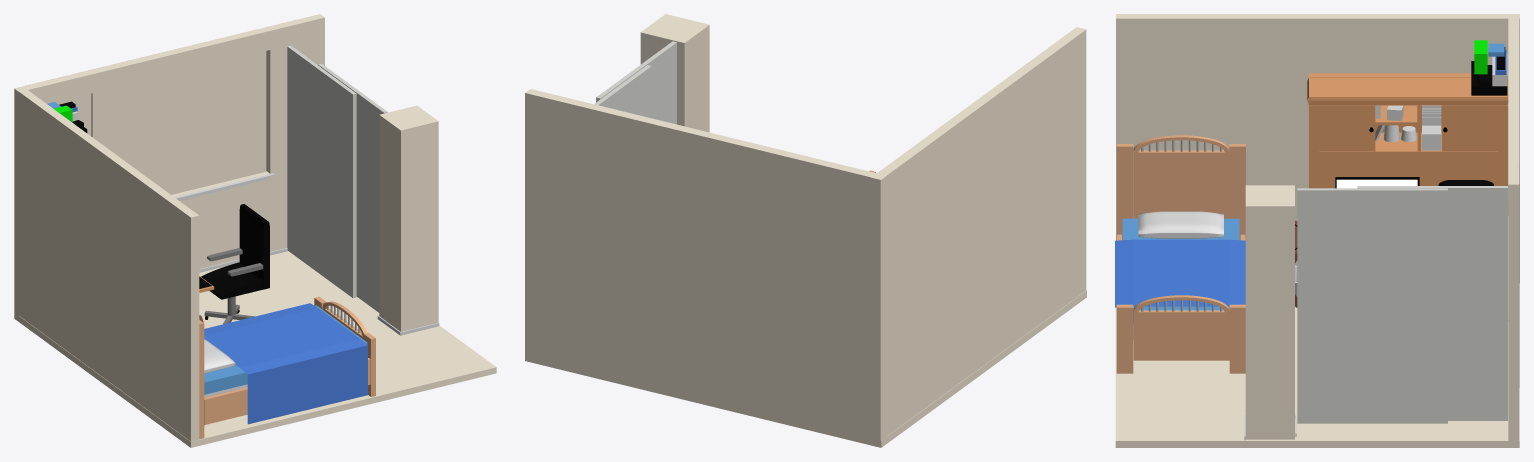
The model's file is myroomV1.glb.
3 renders of one model, left to right at view 1: azimuth 30°, elevation 25°; view 2: azimuth 150°, elevation 25°; view 3: azimuth 270°, elevation 25°, orthographic. The views are drawn at different scales.
Visible parts, largest first — view 1: Cube, Cube.044, Cube.042, Plane, Cube.043, Cube.047, Cube.046, Cube.033, Cube.040, Cube.031, Cube.041, Cube.037 (+1 smaller); view 2: Cube, Cube.042, Cube.043, Cube.044; view 3: Cube, Cube.043, Cube.044, Cube.042, Plane, Cube.164, Cube.037, Cube.038, Cube.002, Cube.009, Cube.015, Cube.012 (+13 smaller).
Boxes of the visible parts, bbox=[...] form: Cube: bbox=[14, 14, 496, 447]; Cube.044: bbox=[287, 45, 356, 298]; Cube.042: bbox=[379, 105, 438, 331]; Plane: bbox=[204, 303, 367, 424]; Cube.043: bbox=[318, 63, 387, 312]; Cube.047: bbox=[239, 204, 269, 289]; Cube.046: bbox=[201, 262, 263, 299]; Cube.033: bbox=[204, 358, 370, 424]; Cube.040: bbox=[204, 305, 367, 394]; Cube.031: bbox=[199, 320, 204, 439]; Cube.041: bbox=[204, 339, 235, 373]; Cube.037: bbox=[322, 301, 367, 339]; Cube: bbox=[525, 27, 1086, 447]; Cube.042: bbox=[640, 14, 709, 132]; Cube.043: bbox=[596, 41, 676, 124]; Cube.044: bbox=[594, 65, 651, 118]; Cube: bbox=[1115, 14, 1519, 447]; Cube.043: bbox=[1297, 188, 1447, 423]; Cube.044: bbox=[1357, 186, 1507, 420]; Cube.042: bbox=[1245, 185, 1294, 439]; Plane: bbox=[1115, 239, 1245, 307]; Cube.164: bbox=[1133, 135, 1229, 218]; Cube.037: bbox=[1133, 295, 1229, 360]; Cube.038: bbox=[1307, 77, 1508, 105]; Cube.002: bbox=[1309, 73, 1498, 188]; Cube.009: bbox=[1319, 105, 1375, 151]; Cube.015: bbox=[1442, 105, 1497, 151]; Cube.012: bbox=[1319, 132, 1497, 160].
Bounding box in the file's own units: 14.64 × 10.53 × 14.67.
